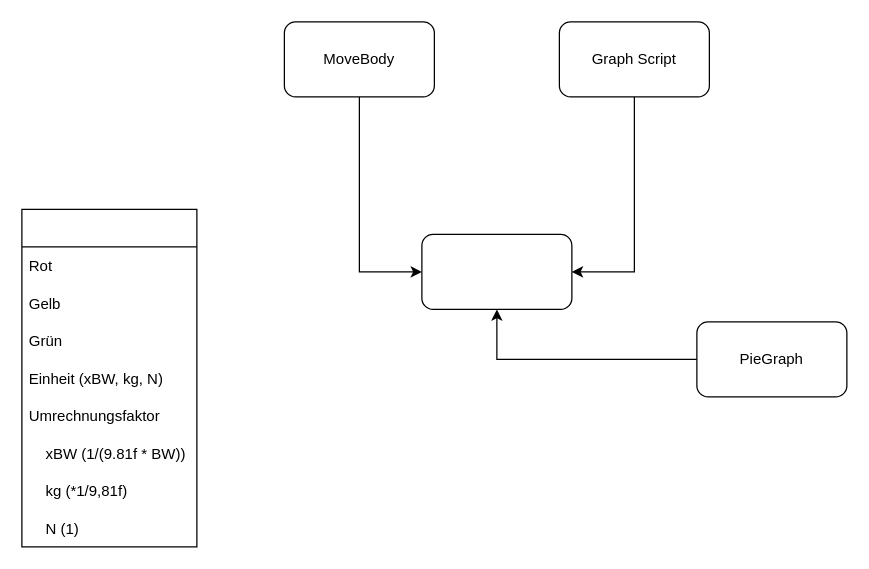
The diagram is 869 pixels wide and 569 high, and some of its shapes have lost their labels. The box of each missing label's shape, as (x1, y1, x2, y2) in pixels:
Global Limit Handler: (421, 233, 572, 309)
Limit: (21, 208, 197, 547)
